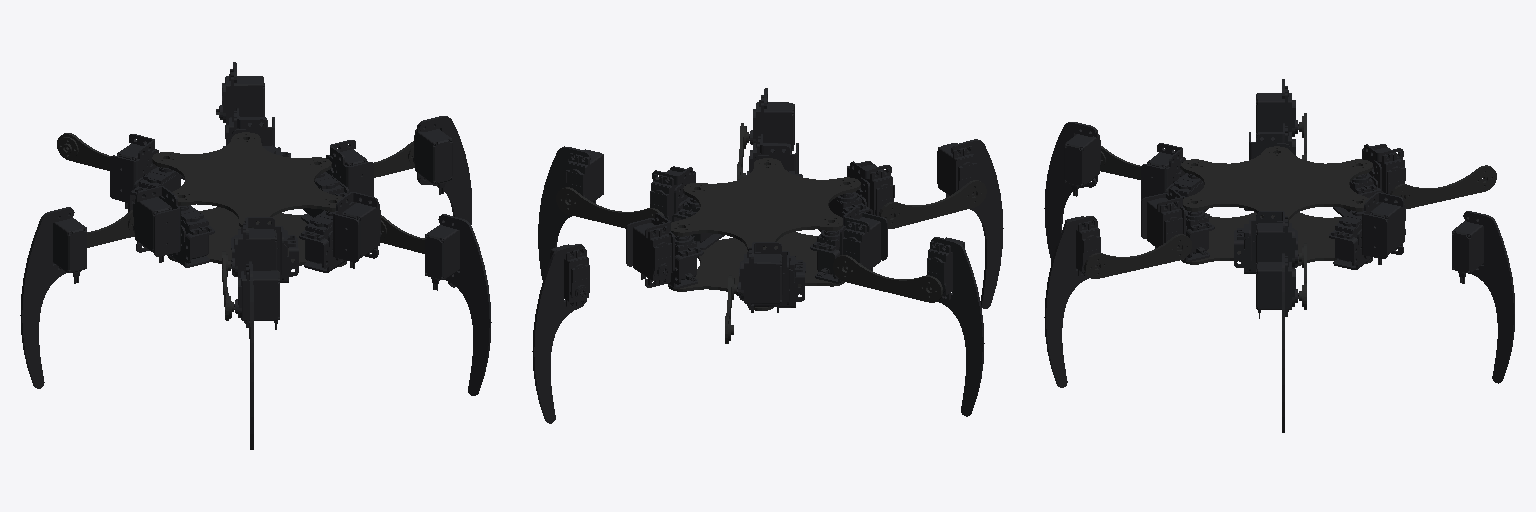
The robot description file, URDF, robot "spider URDF 3":
<?xml version="1.0" encoding="utf-8"?>
<!-- This URDF was automatically created by SolidWorks to URDF Exporter! Originally created by Stephen Brawner ([email redacted]) 
     Commit Version: 1.5.1-0-g916b5db  Build Version: 1.5.7152.31018
     For more information, please see http://wiki.ros.org/sw_urdf_exporter -->
<robot
  name="spider URDF 3">
  <link
    name="main_body">
    <inertial>
      <origin
        xyz="1.8962E-18 2.9807E-18 -0.024667"
        rpy="0 0 0" />
      <mass
        value="0.27159" />
      <inertia
        ixx="0.00047029"
        ixy="8.7431E-20"
        ixz="9.2463E-22"
        iyy="0.00030006"
        iyz="2.8702E-20"
        izz="0.00076993" />
    </inertial>
    <visual>
      <origin
        xyz="0 0 0"
        rpy="0 0 0" />
      <geometry>
        <mesh
          filename="package://spider URDF 3/meshes/main_body.STL" />
      </geometry>
      <material
        name="">
        <color
          rgba="0.189804 0.191765 0.192941 1" />
      </material>
    </visual>
    <collision>
      <origin
        xyz="0 0 0"
        rpy="0 0 0" />
      <geometry>
        <mesh
          filename="package://spider URDF 3/meshes/main_body.STL" />
      </geometry>
    </collision>
  </link>
  <link
    name="L1_coxa">
    <inertial>
      <origin
        xyz="0.024776 0.0016341 0.0035142"
        rpy="0 0 0" />
      <mass
        value="0.14547" />
      <inertia
        ixx="4.1777E-05"
        ixy="-5.3584E-07"
        ixz="5.3557E-07"
        iyy="2.672E-05"
        iyz="-4.9151E-13"
        izz="2.672E-05" />
    </inertial>
    <visual>
      <origin
        xyz="0 0 0"
        rpy="0 0 0" />
      <geometry>
        <mesh
          filename="package://spider URDF 3/meshes/L1_coxa.STL" />
      </geometry>
      <material
        name="">
        <color
          rgba="0.179216 0.181961 0.193333 1" />
      </material>
    </visual>
    <collision>
      <origin
        xyz="0 0 0"
        rpy="0 0 0" />
      <geometry>
        <mesh
          filename="package://spider URDF 3/meshes/L1_coxa.STL" />
      </geometry>
    </collision>
  </link>
  <joint
    name="L1_joint1"
    type="revolute">
    <origin
      xyz="-0.044415 0.061418 -0.023391"
      rpy="1.5708 0 2.0608" />
    <parent
      link="main_body" />
    <child
      link="L1_coxa" />
    <axis
      xyz="0 0 0" />
    <limit
      lower="0"
      upper="0"
      effort="0"
      velocity="0" />
  </joint>
  <link
    name="L1_femur">
    <inertial>
      <origin
        xyz="0.0425 0.0020723 -0.00096249"
        rpy="0 0 0" />
      <mass
        value="0.018954" />
      <inertia
        ixx="6.9019E-07"
        ixy="9.6558E-21"
        ixz="-4.4469E-21"
        iyy="1.6508E-05"
        iyz="2.0444E-21"
        izz="1.7168E-05" />
    </inertial>
    <visual>
      <origin
        xyz="0 0 0"
        rpy="0 0 0" />
      <geometry>
        <mesh
          filename="package://spider URDF 3/meshes/L1_femur.STL" />
      </geometry>
      <material
        name="">
        <color
          rgba="0.189804 0.192157 0.192941 1" />
      </material>
    </visual>
    <collision>
      <origin
        xyz="0 0 0"
        rpy="0 0 0" />
      <geometry>
        <mesh
          filename="package://spider URDF 3/meshes/L1_femur.STL" />
      </geometry>
    </collision>
  </link>
  <joint
    name="L1_joint2"
    type="revolute">
    <origin
      xyz="0.039646 -0.001781 0.034959"
      rpy="-3.1416 0 0" />
    <parent
      link="L1_coxa" />
    <child
      link="L1_femur" />
    <axis
      xyz="0 0 0" />
    <limit
      lower="0"
      upper="0"
      effort="0"
      velocity="0" />
  </joint>
  <link
    name="L1_tibia">
    <inertial>
      <origin
        xyz="0.017865 -0.00025918 0.013634"
        rpy="0 0 0" />
      <mass
        value="0.083453" />
      <inertia
        ixx="6.3949E-05"
        ixy="-1.3189E-10"
        ixz="-6.8552E-06"
        iyy="6.307E-05"
        iyz="-1.5501E-07"
        izz="1.127E-05" />
    </inertial>
    <visual>
      <origin
        xyz="0 0 0"
        rpy="0 0 0" />
      <geometry>
        <mesh
          filename="package://spider URDF 3/meshes/L1_tibia.STL" />
      </geometry>
      <material
        name="">
        <color
          rgba="0.179216 0.181961 0.193333 1" />
      </material>
    </visual>
    <collision>
      <origin
        xyz="0 0 0"
        rpy="0 0 0" />
      <geometry>
        <mesh
          filename="package://spider URDF 3/meshes/L1_tibia.STL" />
      </geometry>
    </collision>
  </link>
  <joint
    name="L1_joint3"
    type="revolute">
    <origin
      xyz="0.075094 -0.010287 0.023391"
      rpy="-1.5708 0 0" />
    <parent
      link="L1_femur" />
    <child
      link="L1_tibia" />
    <axis
      xyz="0 0 0" />
    <limit
      lower="0"
      upper="0"
      effort="0"
      velocity="0" />
  </joint>
  <link
    name="L2_coxa">
    <inertial>
      <origin
        xyz="0.024776 0.0016341 0.0035142"
        rpy="0 0 0" />
      <mass
        value="0.14547" />
      <inertia
        ixx="4.1777E-05"
        ixy="-5.3584E-07"
        ixz="5.3557E-07"
        iyy="2.672E-05"
        iyz="1.006E-20"
        izz="2.672E-05" />
    </inertial>
    <visual>
      <origin
        xyz="0 0 0"
        rpy="0 0 0" />
      <geometry>
        <mesh
          filename="package://spider URDF 3/meshes/L2_coxa.STL" />
      </geometry>
      <material
        name="">
        <color
          rgba="0.179216 0.181961 0.193333 1" />
      </material>
    </visual>
    <collision>
      <origin
        xyz="0 0 0"
        rpy="0 0 0" />
      <geometry>
        <mesh
          filename="package://spider URDF 3/meshes/L2_coxa.STL" />
      </geometry>
    </collision>
  </link>
  <joint
    name="L2_joint1"
    type="revolute">
    <origin
      xyz="-0.057933 -0.010287 -0.023391"
      rpy="1.5708 0 -3.1416" />
    <parent
      link="main_body" />
    <child
      link="L2_coxa" />
    <axis
      xyz="0 0 0" />
    <limit
      lower="0"
      upper="0"
      effort="0"
      velocity="0" />
  </joint>
  <link
    name="L2_femur">
    <inertial>
      <origin
        xyz="0.0425 0.0020723 -0.00096249"
        rpy="0 0 0" />
      <mass
        value="0.018954" />
      <inertia
        ixx="6.9019E-07"
        ixy="1.0268E-21"
        ixz="8.041E-21"
        iyy="1.6508E-05"
        iyz="1.635E-21"
        izz="1.7168E-05" />
    </inertial>
    <visual>
      <origin
        xyz="0 0 0"
        rpy="0 0 0" />
      <geometry>
        <mesh
          filename="package://spider URDF 3/meshes/L2_femur.STL" />
      </geometry>
      <material
        name="">
        <color
          rgba="0.189804 0.192157 0.192941 1" />
      </material>
    </visual>
    <collision>
      <origin
        xyz="0 0 0"
        rpy="0 0 0" />
      <geometry>
        <mesh
          filename="package://spider URDF 3/meshes/L2_femur.STL" />
      </geometry>
    </collision>
  </link>
  <joint
    name="L2_joint2"
    type="revolute">
    <origin
      xyz="0.039646 -0.001781 0.034959"
      rpy="3.1416 0 0" />
    <parent
      link="L2_coxa" />
    <child
      link="L2_femur" />
    <axis
      xyz="0 0 0" />
    <limit
      lower="0"
      upper="0"
      effort="0"
      velocity="0" />
  </joint>
  <link
    name="L2_tibia">
    <inertial>
      <origin
        xyz="0.017865 -0.00025918 0.013634"
        rpy="0 0 0" />
      <mass
        value="0.083453" />
      <inertia
        ixx="6.3949E-05"
        ixy="-1.3191E-10"
        ixz="-6.8552E-06"
        iyy="6.307E-05"
        iyz="-1.5501E-07"
        izz="1.127E-05" />
    </inertial>
    <visual>
      <origin
        xyz="0 0 0"
        rpy="0 0 0" />
      <geometry>
        <mesh
          filename="package://spider URDF 3/meshes/L2_tibia.STL" />
      </geometry>
      <material
        name="">
        <color
          rgba="0.179216 0.181961 0.193333 1" />
      </material>
    </visual>
    <collision>
      <origin
        xyz="0 0 0"
        rpy="0 0 0" />
      <geometry>
        <mesh
          filename="package://spider URDF 3/meshes/L2_tibia.STL" />
      </geometry>
    </collision>
  </link>
  <joint
    name="L2_joint3"
    type="revolute">
    <origin
      xyz="0.075094 -0.010287 0.023391"
      rpy="-1.5708 0 0" />
    <parent
      link="L2_femur" />
    <child
      link="L2_tibia" />
    <axis
      xyz="0 0 0" />
    <limit
      lower="0"
      upper="0"
      effort="0"
      velocity="0" />
  </joint>
  <link
    name="L3_coxa">
    <inertial>
      <origin
        xyz="0.024776 0.0016341 0.0035142"
        rpy="0 0 0" />
      <mass
        value="0.14547" />
      <inertia
        ixx="4.1777E-05"
        ixy="-5.3584E-07"
        ixz="5.3557E-07"
        iyy="2.672E-05"
        iyz="-4.5427E-13"
        izz="2.672E-05" />
    </inertial>
    <visual>
      <origin
        xyz="0 0 0"
        rpy="0 0 0" />
      <geometry>
        <mesh
          filename="package://spider URDF 3/meshes/L3_coxa.STL" />
      </geometry>
      <material
        name="">
        <color
          rgba="0.179216 0.181961 0.193333 1" />
      </material>
    </visual>
    <collision>
      <origin
        xyz="0 0 0"
        rpy="0 0 0" />
      <geometry>
        <mesh
          filename="package://spider URDF 3/meshes/L3_coxa.STL" />
      </geometry>
    </collision>
  </link>
  <joint
    name="L3_joint1"
    type="revolute">
    <origin
      xyz="-0.026262 -0.0711 -0.023391"
      rpy="1.5708 0 -2.0608" />
    <parent
      link="main_body" />
    <child
      link="L3_coxa" />
    <axis
      xyz="0 0 0" />
    <limit
      lower="0"
      upper="0"
      effort="0"
      velocity="0" />
  </joint>
  <link
    name="L3_femur">
    <inertial>
      <origin
        xyz="0.0425 0.0020723 -0.00096249"
        rpy="0 0 0" />
      <mass
        value="0.018954" />
      <inertia
        ixx="6.9019E-07"
        ixy="1.2735E-20"
        ixz="5.5057E-21"
        iyy="1.6508E-05"
        iyz="1.7693E-21"
        izz="1.7168E-05" />
    </inertial>
    <visual>
      <origin
        xyz="0 0 0"
        rpy="0 0 0" />
      <geometry>
        <mesh
          filename="package://spider URDF 3/meshes/L3_femur.STL" />
      </geometry>
      <material
        name="">
        <color
          rgba="0.189804 0.192157 0.192941 1" />
      </material>
    </visual>
    <collision>
      <origin
        xyz="0 0 0"
        rpy="0 0 0" />
      <geometry>
        <mesh
          filename="package://spider URDF 3/meshes/L3_femur.STL" />
      </geometry>
    </collision>
  </link>
  <joint
    name="L3_joint2"
    type="revolute">
    <origin
      xyz="0.039646 -0.001781 0.034959"
      rpy="3.1416 0 0" />
    <parent
      link="L3_coxa" />
    <child
      link="L3_femur" />
    <axis
      xyz="0 0 0" />
    <limit
      lower="0"
      upper="0"
      effort="0"
      velocity="0" />
  </joint>
  <link
    name="L3_tibia">
    <inertial>
      <origin
        xyz="0.017865 -0.00025918 0.013634"
        rpy="0 0 0" />
      <mass
        value="0.083453" />
      <inertia
        ixx="6.3949E-05"
        ixy="-1.3193E-10"
        ixz="-6.8552E-06"
        iyy="6.307E-05"
        iyz="-1.5501E-07"
        izz="1.127E-05" />
    </inertial>
    <visual>
      <origin
        xyz="0 0 0"
        rpy="0 0 0" />
      <geometry>
        <mesh
          filename="package://spider URDF 3/meshes/L3_tibia.STL" />
      </geometry>
      <material
        name="">
        <color
          rgba="0.179216 0.181961 0.193333 1" />
      </material>
    </visual>
    <collision>
      <origin
        xyz="0 0 0"
        rpy="0 0 0" />
      <geometry>
        <mesh
          filename="package://spider URDF 3/meshes/L3_tibia.STL" />
      </geometry>
    </collision>
  </link>
  <joint
    name="L3_joint3"
    type="revolute">
    <origin
      xyz="0.075094 -0.010287 0.023391"
      rpy="-1.5708 0 0" />
    <parent
      link="L3_femur" />
    <child
      link="L3_tibia" />
    <axis
      xyz="0 0 0" />
    <limit
      lower="0"
      upper="0"
      effort="0"
      velocity="0" />
  </joint>
  <link
    name="R1_coxa">
    <inertial>
      <origin
        xyz="-0.0049639 0.0016341 0.0035142"
        rpy="0 0 0" />
      <mass
        value="0.14547" />
      <inertia
        ixx="4.1777E-05"
        ixy="5.3547E-07"
        ixz="-5.3574E-07"
        iyy="2.672E-05"
        iyz="-4.5427E-13"
        izz="2.672E-05" />
    </inertial>
    <visual>
      <origin
        xyz="0 0 0"
        rpy="0 0 0" />
      <geometry>
        <mesh
          filename="package://spider URDF 3/meshes/R1_coxa.STL" />
      </geometry>
      <material
        name="">
        <color
          rgba="0.179216 0.181961 0.193333 1" />
      </material>
    </visual>
    <collision>
      <origin
        xyz="0 0 0"
        rpy="0 0 0" />
      <geometry>
        <mesh
          filename="package://spider URDF 3/meshes/R1_coxa.STL" />
      </geometry>
    </collision>
  </link>
  <joint
    name="R1_joint1"
    type="revolute">
    <origin
      xyz="0.053738 0.0789 -0.023391"
      rpy="1.5708 0 -2.0608" />
    <parent
      link="main_body" />
    <child
      link="R1_coxa" />
    <axis
      xyz="0 0 0" />
    <limit
      lower="0"
      upper="0"
      effort="0"
      velocity="0" />
  </joint>
  <link
    name="R1_femur">
    <inertial>
      <origin
        xyz="-0.0425 0.0020723 -0.00096249"
        rpy="0 0 0" />
      <mass
        value="0.018954" />
      <inertia
        ixx="6.9019E-07"
        ixy="5.83E-21"
        ixz="2.5411E-21"
        iyy="1.6508E-05"
        iyz="1.9867E-21"
        izz="1.7168E-05" />
    </inertial>
    <visual>
      <origin
        xyz="0 0 0"
        rpy="0 0 0" />
      <geometry>
        <mesh
          filename="package://spider URDF 3/meshes/R1_femur.STL" />
      </geometry>
      <material
        name="">
        <color
          rgba="0.189804 0.192157 0.192941 1" />
      </material>
    </visual>
    <collision>
      <origin
        xyz="0 0 0"
        rpy="0 0 0" />
      <geometry>
        <mesh
          filename="package://spider URDF 3/meshes/R1_femur.STL" />
      </geometry>
    </collision>
  </link>
  <joint
    name="R1_joint2"
    type="revolute">
    <origin
      xyz="-0.019834 -0.001781 0.034959"
      rpy="3.1416 0 0" />
    <parent
      link="R1_coxa" />
    <child
      link="R1_femur" />
    <axis
      xyz="0 0 0" />
    <limit
      lower="0"
      upper="0"
      effort="0"
      velocity="0" />
  </joint>
  <link
    name="R1_tibia">
    <inertial>
      <origin
        xyz="0.0019476 -0.00025921 0.013634"
        rpy="0 0 0" />
      <mass
        value="0.083453" />
      <inertia
        ixx="6.3949E-05"
        ixy="-1.3193E-10"
        ixz="6.8553E-06"
        iyy="6.307E-05"
        iyz="-1.5497E-07"
        izz="1.127E-05" />
    </inertial>
    <visual>
      <origin
        xyz="0 0 0"
        rpy="0 0 0" />
      <geometry>
        <mesh
          filename="package://spider URDF 3/meshes/R1_tibia.STL" />
      </geometry>
      <material
        name="">
        <color
          rgba="0.179216 0.181961 0.193333 1" />
      </material>
    </visual>
    <collision>
      <origin
        xyz="0 0 0"
        rpy="0 0 0" />
      <geometry>
        <mesh
          filename="package://spider URDF 3/meshes/R1_tibia.STL" />
      </geometry>
    </collision>
  </link>
  <joint
    name="R1_joint3"
    type="revolute">
    <origin
      xyz="-0.094906 -0.010287 0.023391"
      rpy="-1.5708 0 0" />
    <parent
      link="R1_femur" />
    <child
      link="R1_tibia" />
    <axis
      xyz="0 0 0" />
    <limit
      lower="0"
      upper="0"
      effort="0"
      velocity="0" />
  </joint>
  <link
    name="R2_coxa">
    <inertial>
      <origin
        xyz="-0.0049639 0.0016341 0.0035142"
        rpy="0 0 0" />
      <mass
        value="0.14547" />
      <inertia
        ixx="4.1777E-05"
        ixy="5.3547E-07"
        ixz="-5.3574E-07"
        iyy="2.672E-05"
        iyz="8.7086E-21"
        izz="2.672E-05" />
    </inertial>
    <visual>
      <origin
        xyz="0 0 0"
        rpy="0 0 0" />
      <geometry>
        <mesh
          filename="package://spider URDF 3/meshes/R2_coxa.STL" />
      </geometry>
      <material
        name="">
        <color
          rgba="0.179216 0.181961 0.193333 1" />
      </material>
    </visual>
    <collision>
      <origin
        xyz="0 0 0"
        rpy="0 0 0" />
      <geometry>
        <mesh
          filename="package://spider URDF 3/meshes/R2_coxa.STL" />
      </geometry>
    </collision>
  </link>
  <joint
    name="R2_joint1"
    type="revolute">
    <origin
      xyz="0.077745 -0.010287 -0.023391"
      rpy="1.5708 0 -3.1416" />
    <parent
      link="main_body" />
    <child
      link="R2_coxa" />
    <axis
      xyz="0 0 0" />
    <limit
      lower="0"
      upper="0"
      effort="0"
      velocity="0" />
  </joint>
  <link
    name="R2_femur">
    <inertial>
      <origin
        xyz="-0.0425 0.0020723 -0.00096249"
        rpy="0 0 0" />
      <mass
        value="0.018954" />
      <inertia
        ixx="6.9019E-07"
        ixy="-1.3713E-21"
        ixz="1.7931E-20"
        iyy="1.6508E-05"
        iyz="2.6897E-21"
        izz="1.7168E-05" />
    </inertial>
    <visual>
      <origin
        xyz="0 0 0"
        rpy="0 0 0" />
      <geometry>
        <mesh
          filename="package://spider URDF 3/meshes/R2_femur.STL" />
      </geometry>
      <material
        name="">
        <color
          rgba="0.189804 0.192157 0.192941 1" />
      </material>
    </visual>
    <collision>
      <origin
        xyz="0 0 0"
        rpy="0 0 0" />
      <geometry>
        <mesh
          filename="package://spider URDF 3/meshes/R2_femur.STL" />
      </geometry>
    </collision>
  </link>
  <joint
    name="R2_joint2"
    type="revolute">
    <origin
      xyz="-0.019834 -0.001781 0.034959"
      rpy="-3.1416 0 0" />
    <parent
      link="R2_coxa" />
    <child
      link="R2_femur" />
    <axis
      xyz="0 0 0" />
    <limit
      lower="0"
      upper="0"
      effort="0"
      velocity="0" />
  </joint>
  <link
    name="R2_tibia">
    <inertial>
      <origin
        xyz="0.0019476 -0.00025921 0.013634"
        rpy="0 0 0" />
      <mass
        value="0.083453" />
      <inertia
        ixx="6.3949E-05"
        ixy="-1.3191E-10"
        ixz="6.8553E-06"
        iyy="6.307E-05"
        iyz="-1.5497E-07"
        izz="1.127E-05" />
    </inertial>
    <visual>
      <origin
        xyz="0 0 0"
        rpy="0 0 0" />
      <geometry>
        <mesh
          filename="package://spider URDF 3/meshes/R2_tibia.STL" />
      </geometry>
      <material
        name="">
        <color
          rgba="0.179216 0.181961 0.193333 1" />
      </material>
    </visual>
    <collision>
      <origin
        xyz="0 0 0"
        rpy="0 0 0" />
      <geometry>
        <mesh
          filename="package://spider URDF 3/meshes/R2_tibia.STL" />
      </geometry>
    </collision>
  </link>
  <joint
    name="R2_joint3"
    type="revolute">
    <origin
      xyz="-0.094906 -0.010287 0.023391"
      rpy="-1.5708 0 0" />
    <parent
      link="R2_femur" />
    <child
      link="R2_tibia" />
    <axis
      xyz="0 0 0" />
    <limit
      lower="0"
      upper="0"
      effort="0"
      velocity="0" />
  </joint>
  <link
    name="R3_coxa">
    <inertial>
      <origin
        xyz="-0.0049639 0.0016341 0.0035142"
        rpy="0 0 0" />
      <mass
        value="0.14547" />
      <inertia
        ixx="4.1777E-05"
        ixy="5.3547E-07"
        ixz="-5.3574E-07"
        iyy="2.672E-05"
        iyz="-4.9151E-13"
        izz="2.672E-05" />
    </inertial>
    <visual>
      <origin
        xyz="0 0 0"
        rpy="0 0 0" />
      <geometry>
        <mesh
          filename="package://spider URDF 3/meshes/R3_coxa.STL" />
      </geometry>
      <material
        name="">
        <color
          rgba="0.179216 0.181961 0.193333 1" />
      </material>
    </visual>
    <collision>
      <origin
        xyz="0 0 0"
        rpy="0 0 0" />
      <geometry>
        <mesh
          filename="package://spider URDF 3/meshes/R3_coxa.STL" />
      </geometry>
    </collision>
  </link>
  <joint
    name="R3_joint1"
    type="revolute">
    <origin
      xyz="0.035585 -0.088582 -0.023391"
      rpy="1.5708 0 2.0608" />
    <parent
      link="main_body" />
    <child
      link="R3_coxa" />
    <axis
      xyz="0 0 0" />
    <limit
      lower="0"
      upper="0"
      effort="0"
      velocity="0" />
  </joint>
  <link
    name="R3_femur">
    <inertial>
      <origin
        xyz="-0.0425 0.0020723 -0.00096249"
        rpy="0 0 0" />
      <mass
        value="0.018954" />
      <inertia
        ixx="6.9019E-07"
        ixy="-3.6249E-21"
        ixz="-2.0408E-20"
        iyy="1.6508E-05"
        iyz="3.1679E-21"
        izz="1.7168E-05" />
    </inertial>
    <visual>
      <origin
        xyz="0 0 0"
        rpy="0 0 0" />
      <geometry>
        <mesh
          filename="package://spider URDF 3/meshes/R3_femur.STL" />
      </geometry>
      <material
        name="">
        <color
          rgba="0.189804 0.192157 0.192941 1" />
      </material>
    </visual>
    <collision>
      <origin
        xyz="0 0 0"
        rpy="0 0 0" />
      <geometry>
        <mesh
          filename="package://spider URDF 3/meshes/R3_femur.STL" />
      </geometry>
    </collision>
  </link>
  <joint
    name="R3_joint2"
    type="revolute">
    <origin
      xyz="-0.019834 -0.001781 0.034959"
      rpy="-3.1416 0 0" />
    <parent
      link="R3_coxa" />
    <child
      link="R3_femur" />
    <axis
      xyz="0 0 0" />
    <limit
      lower="0"
      upper="0"
      effort="0"
      velocity="0" />
  </joint>
  <link
    name="R3_tibia">
    <inertial>
      <origin
        xyz="0.0019476 -0.00025921 0.013634"
        rpy="0 0 0" />
      <mass
        value="0.083453" />
      <inertia
        ixx="6.3949E-05"
        ixy="-1.3189E-10"
        ixz="6.8553E-06"
        iyy="6.307E-05"
        iyz="-1.5497E-07"
        izz="1.127E-05" />
    </inertial>
    <visual>
      <origin
        xyz="0 0 0"
        rpy="0 0 0" />
      <geometry>
        <mesh
          filename="package://spider URDF 3/meshes/R3_tibia.STL" />
      </geometry>
      <material
        name="">
        <color
          rgba="0.179216 0.181961 0.193333 1" />
      </material>
    </visual>
    <collision>
      <origin
        xyz="0 0 0"
        rpy="0 0 0" />
      <geometry>
        <mesh
          filename="package://spider URDF 3/meshes/R3_tibia.STL" />
      </geometry>
    </collision>
  </link>
  <joint
    name="R3_joint3"
    type="revolute">
    <origin
      xyz="-0.094906 -0.010287 0.023391"
      rpy="-1.5708 0 0" />
    <parent
      link="R3_femur" />
    <child
      link="R3_tibia" />
    <axis
      xyz="0 0 0" />
    <limit
      lower="0"
      upper="0"
      effort="0"
      velocity="0" />
  </joint>
</robot>

--- Facts derived from the render (not from the file) ---
Views: 3 orthographic renders of the robot side by side, from view 1: azimuth 30°, elevation 25°; view 2: azimuth 150°, elevation 25°; view 3: azimuth 270°, elevation 25°.
Model spider URDF 3 with 19 links and 18 joints (18 revolute), rooted at main_body, posed every joint at zero.
Visible links, largest first — view 1: main_body, L2_tibia, R3_tibia, R3_coxa, L2_coxa, R2_tibia, L3_coxa, L1_coxa, L3_tibia, R2_coxa, R1_tibia, R1_coxa (+4 smaller); view 2: main_body, R1_tibia, L2_tibia, L3_tibia, R1_coxa, R2_tibia, L1_coxa, L2_coxa, R2_coxa, L3_coxa, L2_femur, L3_femur (+3 smaller); view 3: main_body, R1_tibia, R3_tibia, L3_tibia, R1_coxa, R3_coxa, R2_coxa, R2_tibia, L3_coxa, R3_femur, L1_coxa, L1_femur (+3 smaller).
Link boxes in pixels (<box>): main_body: <box>152,132,346,267</box>; L2_tibia: <box>20,207,86,388</box>; R3_tibia: <box>425,214,491,395</box>; R3_coxa: <box>299,192,381,272</box>; L2_coxa: <box>133,186,214,267</box>; R2_tibia: <box>413,116,471,287</box>; L3_coxa: <box>231,217,298,282</box>; L1_coxa: <box>110,134,184,212</box>; L3_tibia: <box>234,261,279,449</box>; R2_coxa: <box>301,140,373,223</box>; R1_tibia: <box>216,62,264,124</box>; R1_coxa: <box>223,108,290,157</box>; main_body: <box>668,158,860,310</box>; R1_tibia: <box>532,244,589,423</box>; L2_tibia: <box>927,237,984,416</box>; L3_tibia: <box>937,139,1003,308</box>; R1_coxa: <box>626,213,703,288</box>; R2_tibia: <box>538,146,603,279</box>; L1_coxa: <box>737,242,805,312</box>; L2_coxa: <box>810,207,887,283</box>; R2_coxa: <box>650,166,724,249</box>; L3_coxa: <box>819,161,894,231</box>; L2_femur: <box>833,255,942,302</box>; L3_femur: <box>879,180,986,228</box>; main_body: <box>1181,146,1372,268</box>; R1_tibia: <box>1452,211,1514,383</box>; R3_tibia: <box>1044,216,1100,387</box>; L3_tibia: <box>1044,122,1100,262</box>; R1_coxa: <box>1329,192,1405,269</box>; R3_coxa: <box>1141,188,1214,261</box>; R2_coxa: <box>1234,211,1298,273</box>; R2_tibia: <box>1256,253,1298,432</box>; L3_coxa: <box>1141,143,1209,217</box>; R3_femur: <box>1084,234,1191,278</box>; L1_coxa: <box>1333,144,1405,216</box>; L1_femur: <box>1390,165,1496,208</box>.
Size in the robot's own frame: 0.45 by 0.4288 by 0.1654 metres.
17 mesh visuals loaded from 19 distinct referenced files (17 binary STL); not drawn: 2 (reference not matched to a file when rendering).
